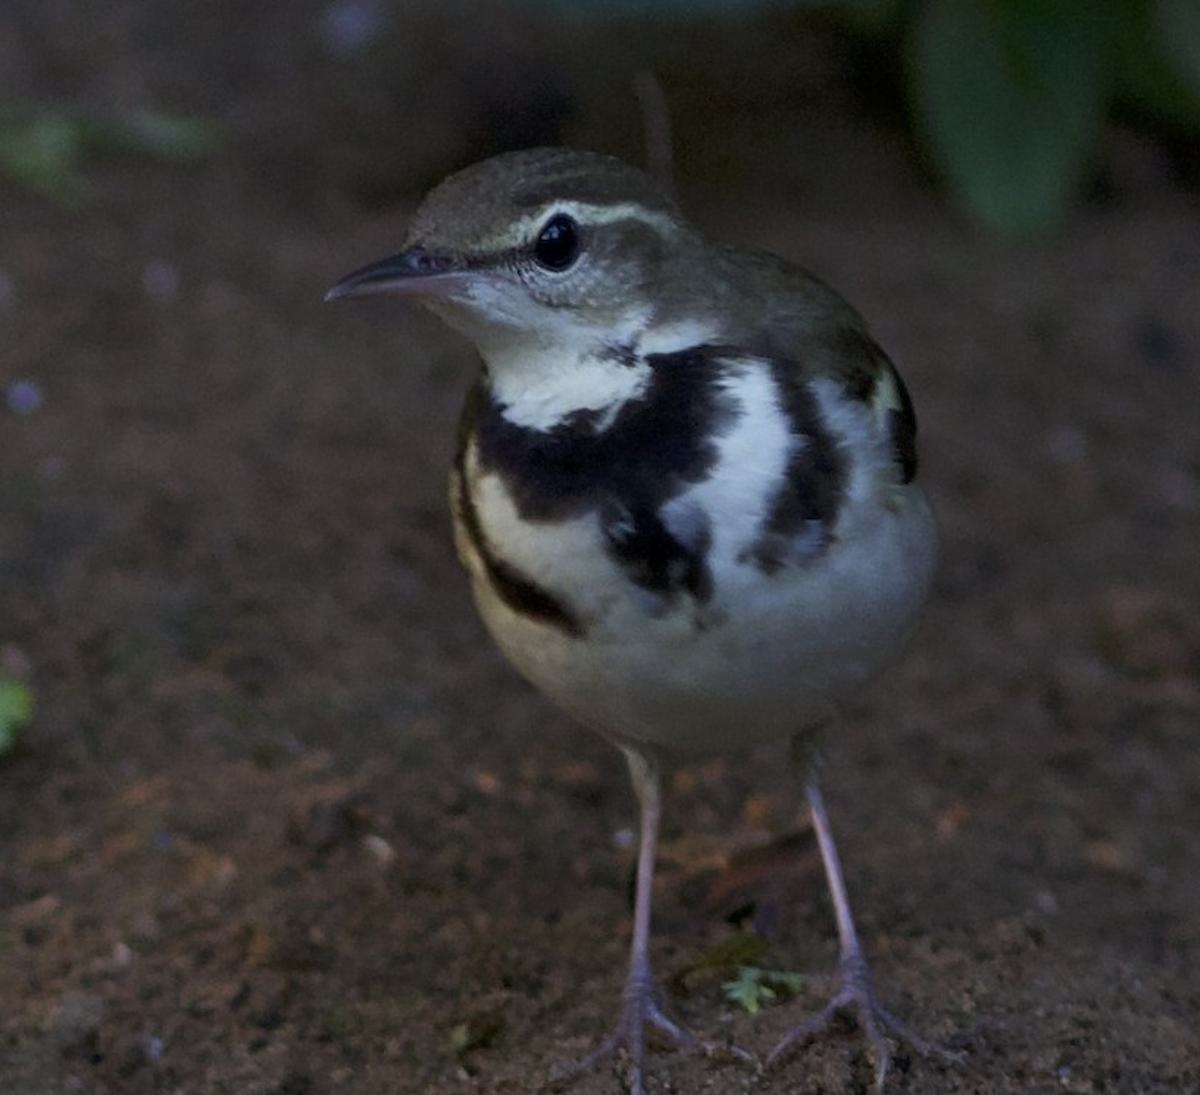wagtail: (289, 129, 931, 953)
